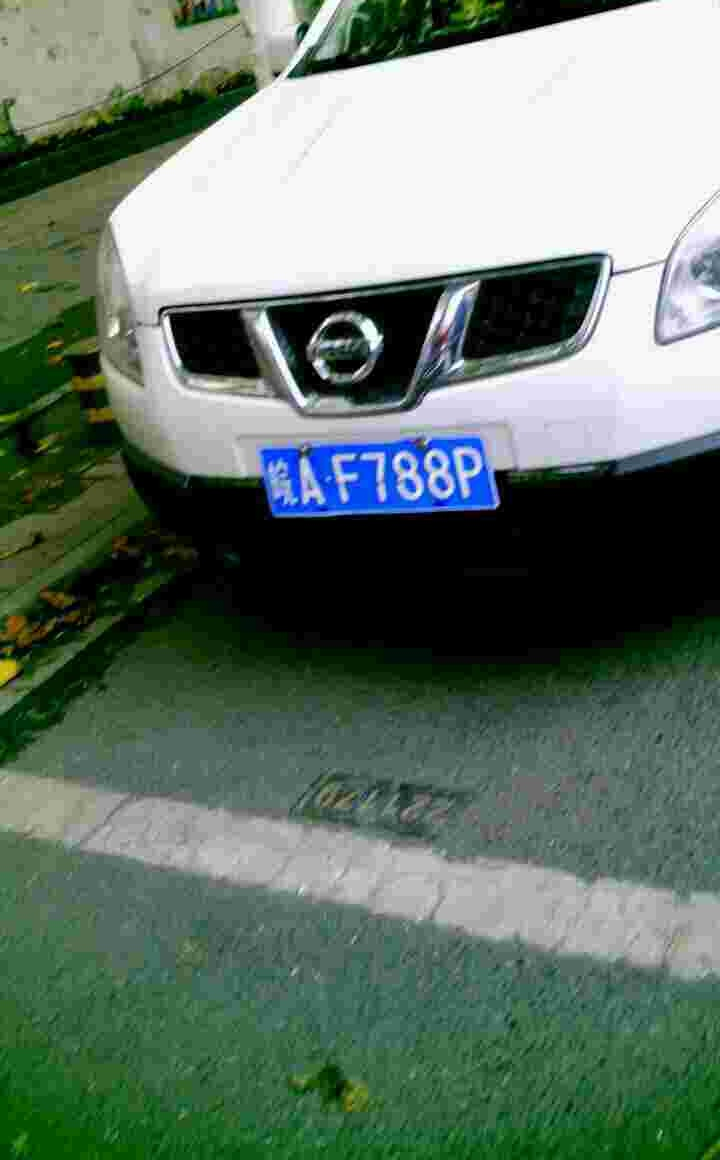plate: (250, 431, 504, 523)
